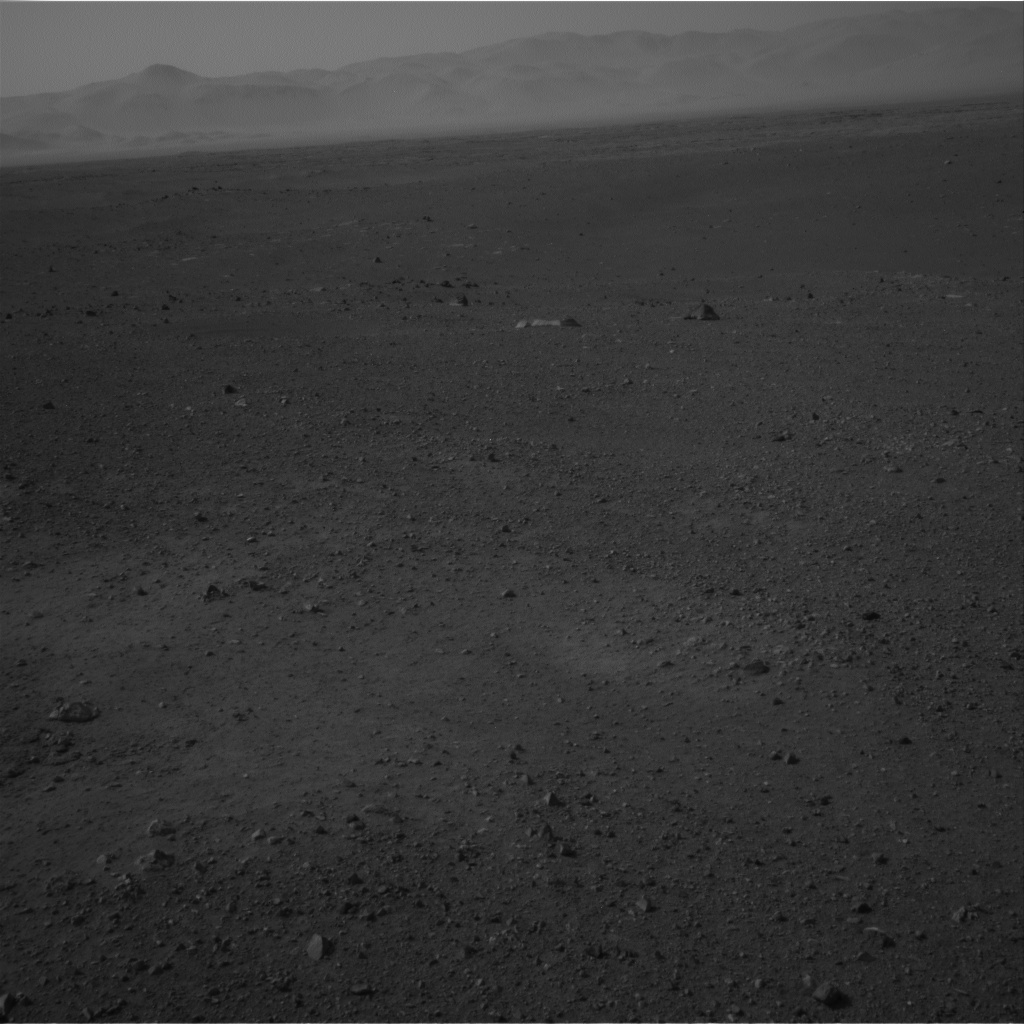big_rock: (701, 304, 712, 308)
soil: (5, 305, 1018, 1016)
